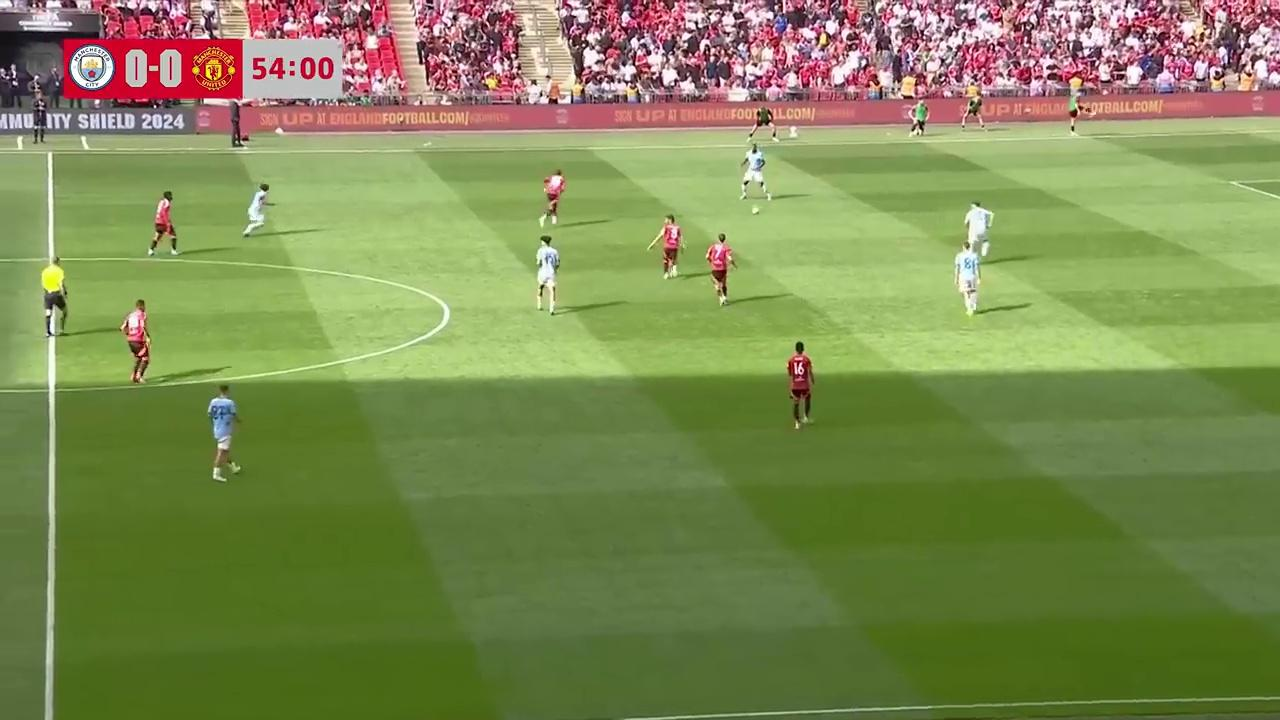ball: (751, 207, 763, 218)
player: (206, 385, 242, 481), (121, 298, 151, 384), (786, 341, 814, 431), (647, 215, 682, 279), (706, 233, 736, 307), (147, 190, 179, 256), (954, 242, 980, 315), (535, 236, 559, 314), (963, 200, 993, 259), (740, 146, 770, 202), (242, 183, 271, 238), (541, 169, 565, 225)
referee: (41, 258, 67, 338)
